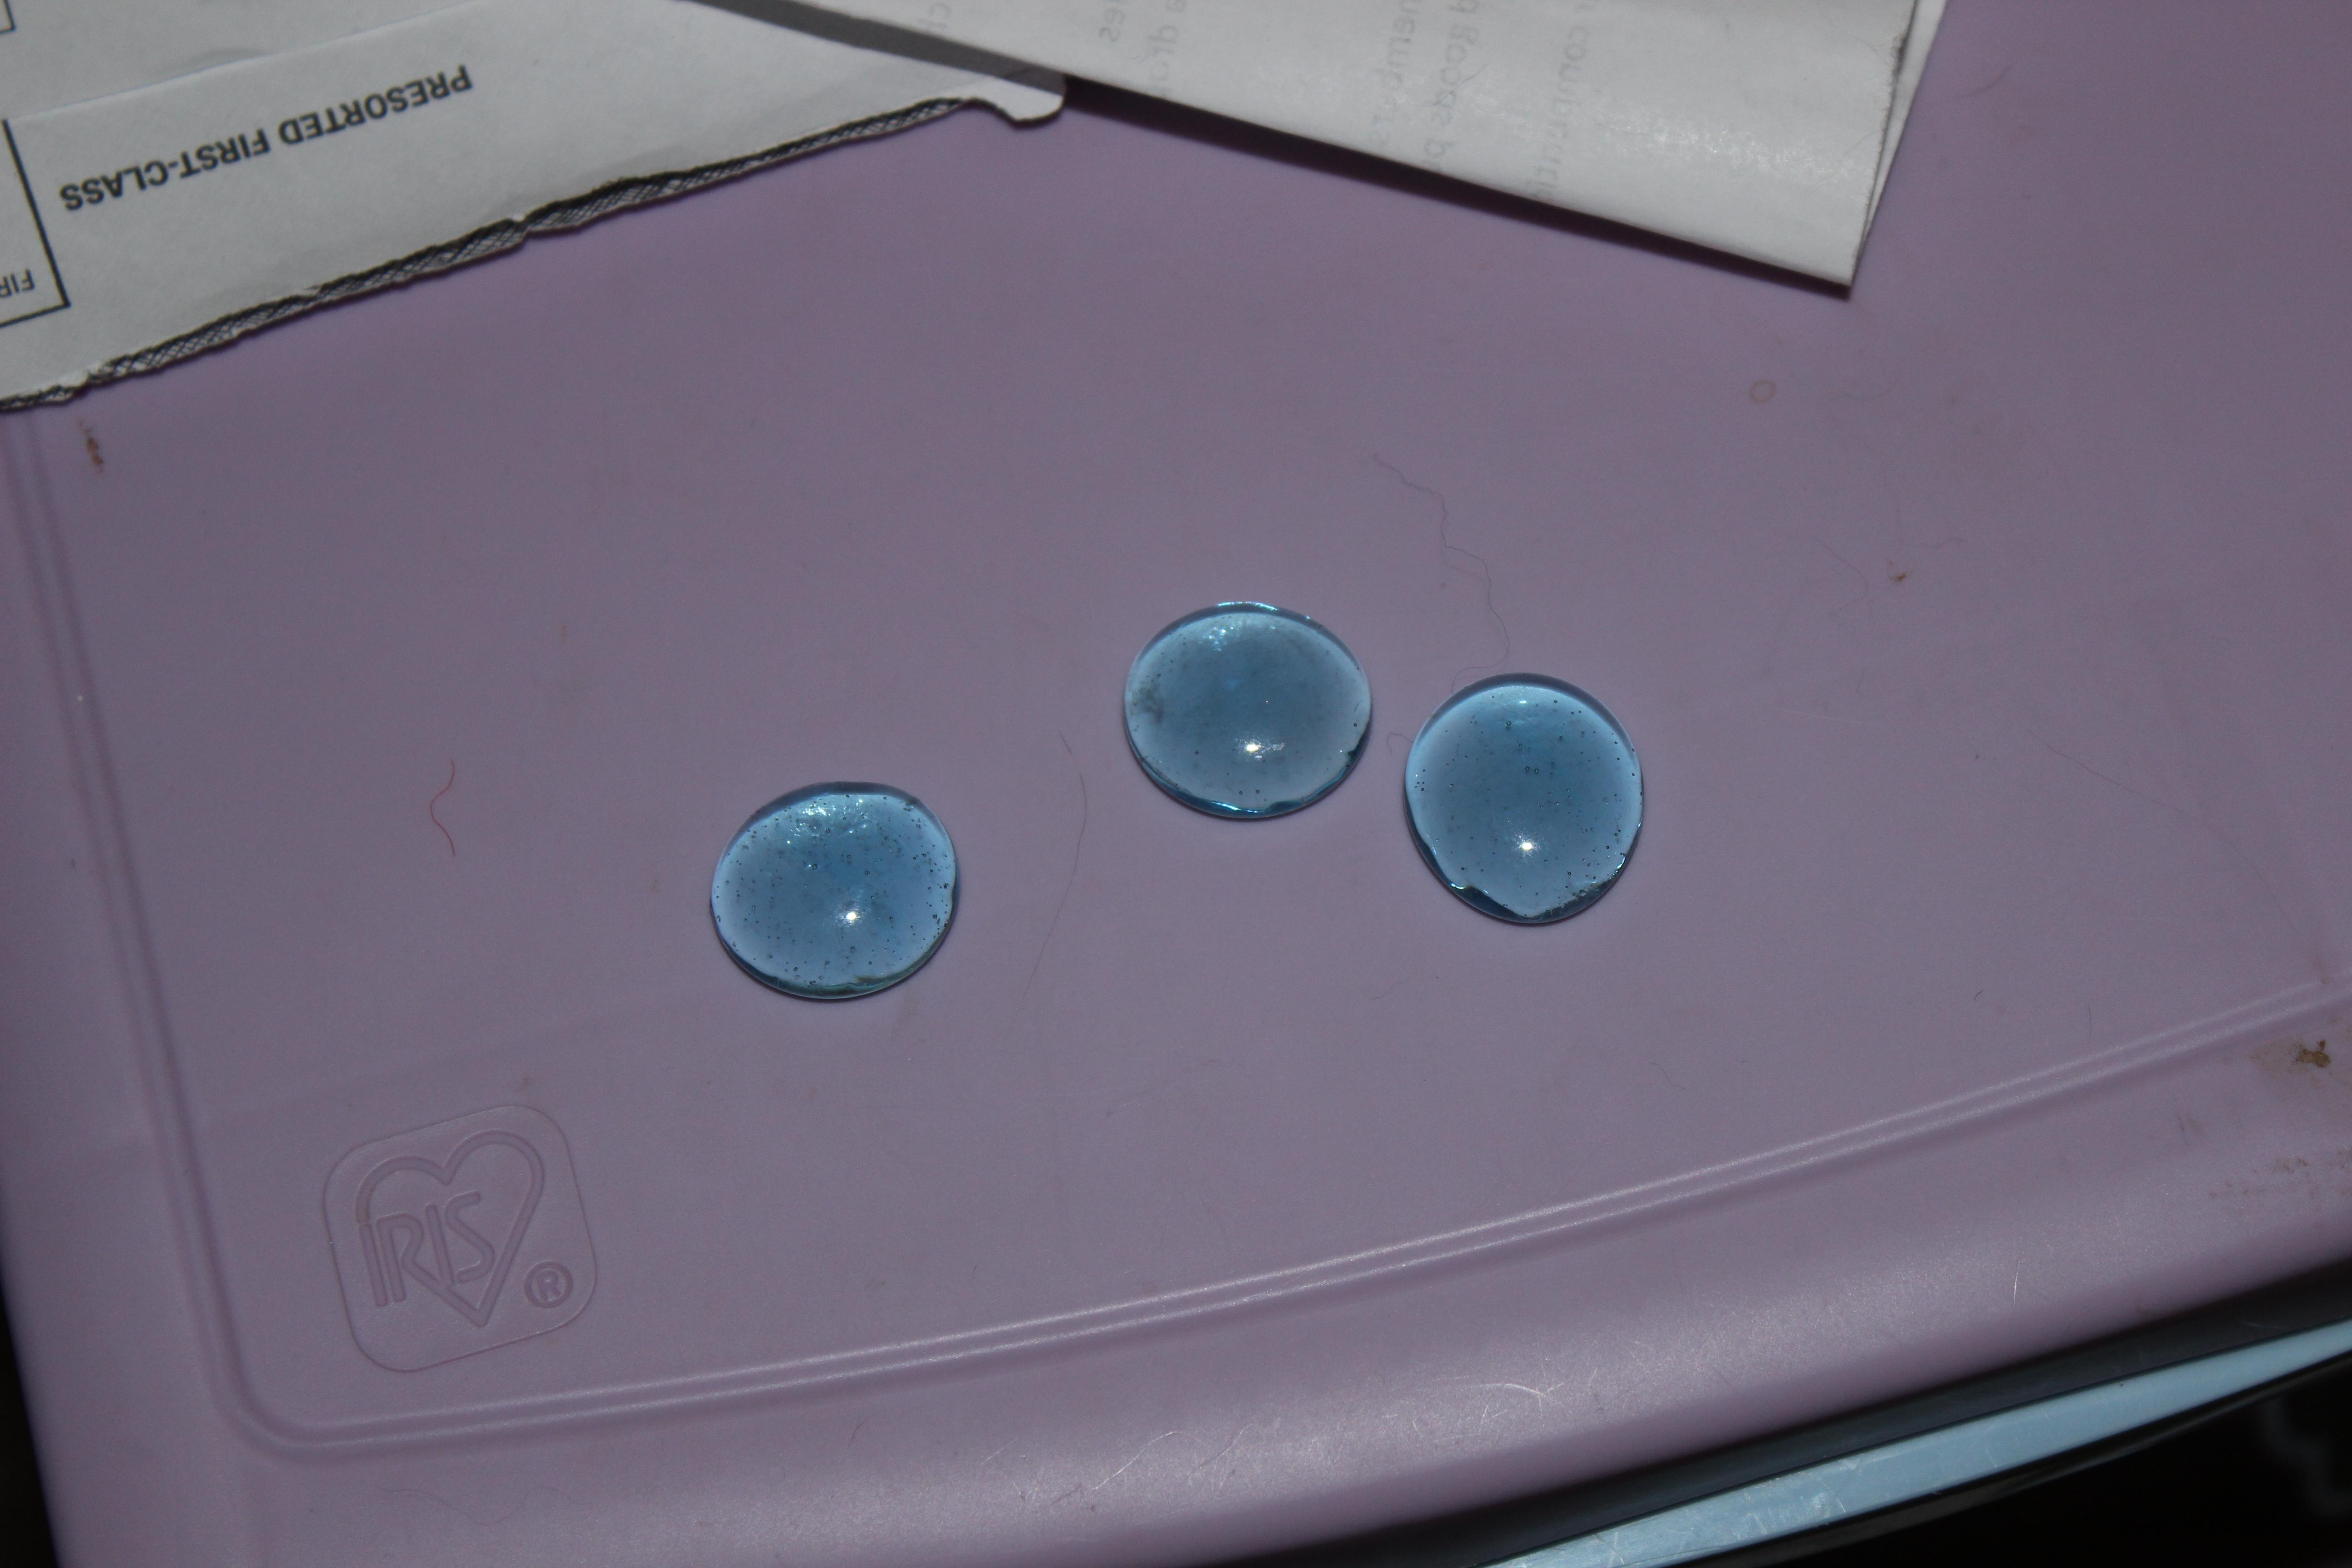glassBead: (682, 751, 980, 1027), (1384, 663, 1673, 943), (1102, 583, 1393, 842)
